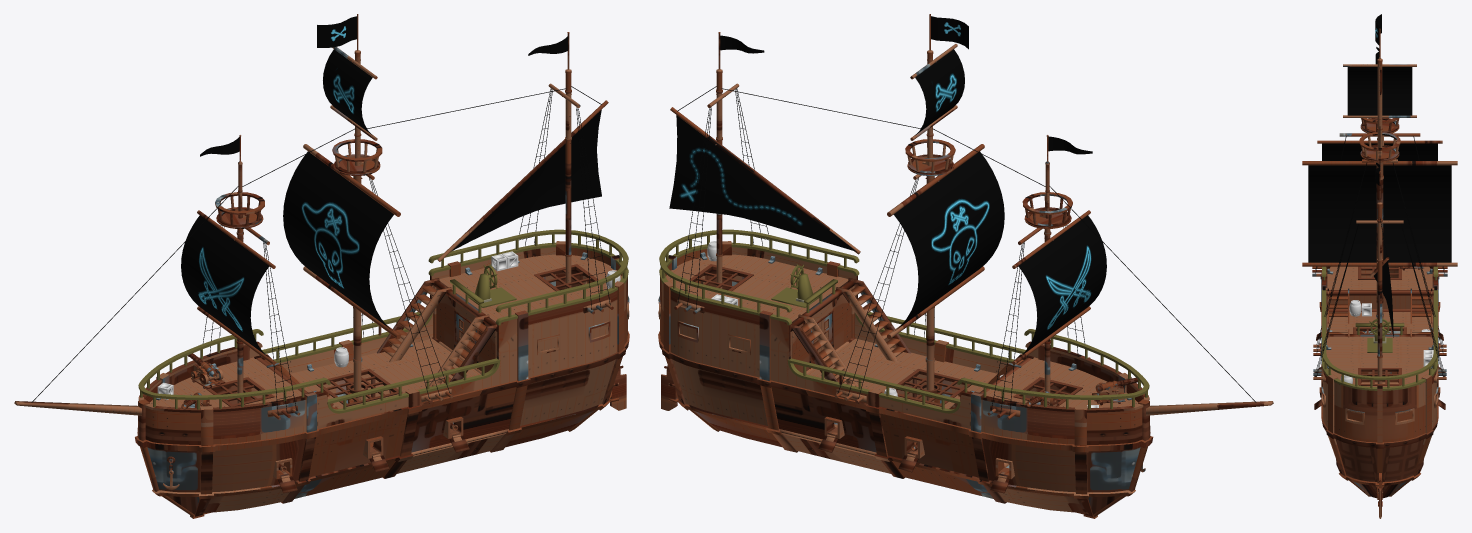
File: pirate ship 2.fbx
3 views of the same model, side by side, from view 1: azimuth 30°, elevation 25°; view 2: azimuth 150°, elevation 25°; view 3: azimuth 270°, elevation 25° (orthographic). The views are drawn at different scales.
Visible parts, largest first — view 1: polySurface58; view 2: polySurface58; view 3: polySurface58.
Part boxes in pixels (x1,y1,x2,y2): polySurface58: [14, 14, 629, 518]; polySurface58: [658, 14, 1273, 518]; polySurface58: [1302, 14, 1457, 518].
Size of the model in its own units: 54.42 by 39.41 by 14.43.
Materials: 10 (3 with a texture image).
